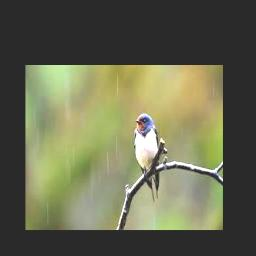Swallow: (133, 113, 160, 202)
